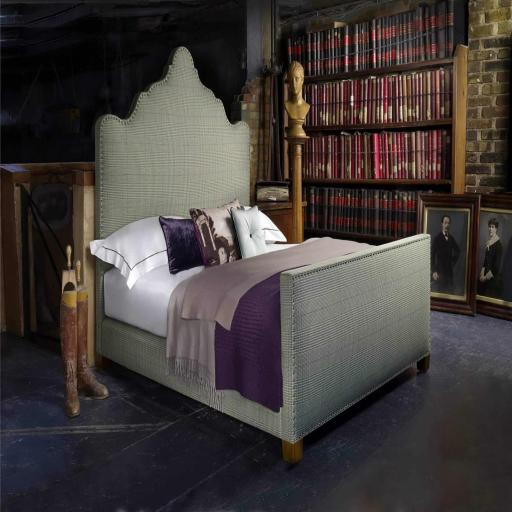bed: (90, 47, 431, 464)
